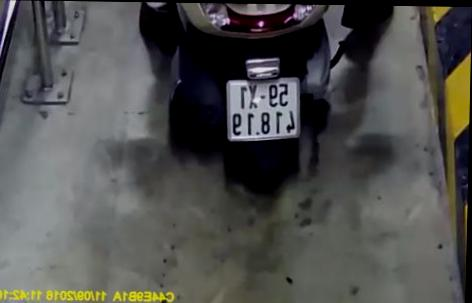License_Plate: (216, 75, 307, 151)
